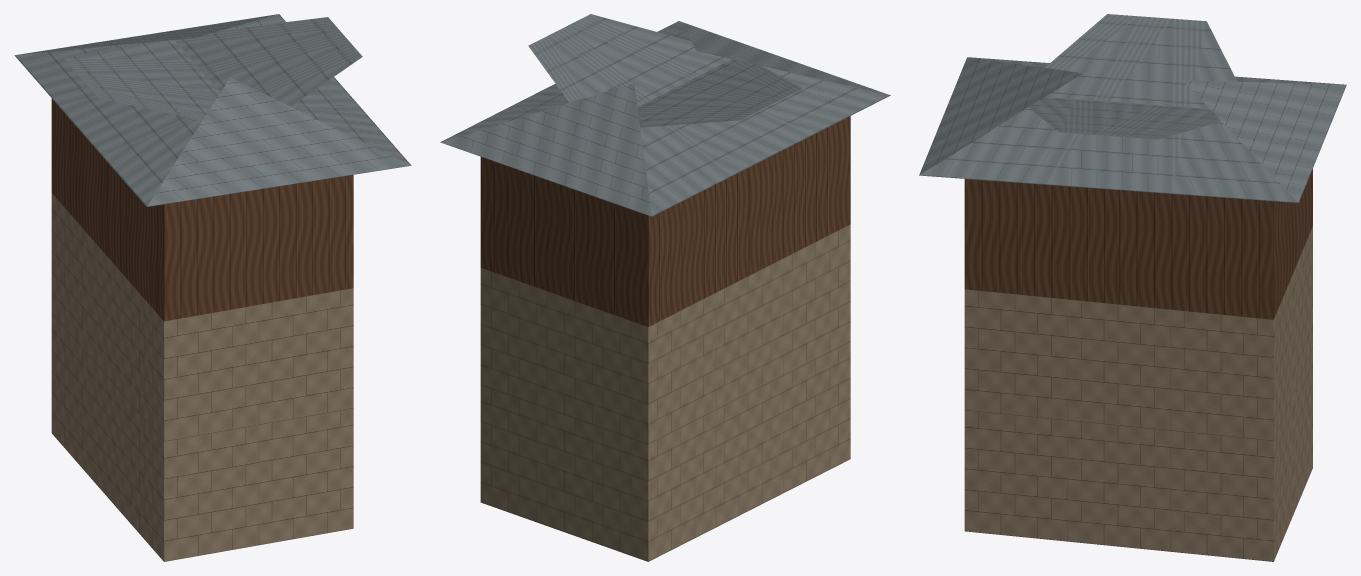
File: bld_c9_39_501.gltf
The picture shows the model from 3 angles, left to right: view 1: azimuth 30°, elevation 25°; view 2: azimuth 150°, elevation 25°; view 3: azimuth 270°, elevation 25°; orthographic projection. The views are drawn at different scales.
Parts seen in each view (by area): view 1: bld_c9_39_501; view 2: bld_c9_39_501; view 3: bld_c9_39_501.
Part boxes in pixels (left/top/right/bottom): bld_c9_39_501: left=14, top=14, right=411, bottom=561; bld_c9_39_501: left=440, top=14, right=890, bottom=561; bld_c9_39_501: left=919, top=14, right=1346, bottom=561.
Size of the model in its own units: 5.87 by 8 by 7.27.
Materials: 3 (3 with a texture image).
